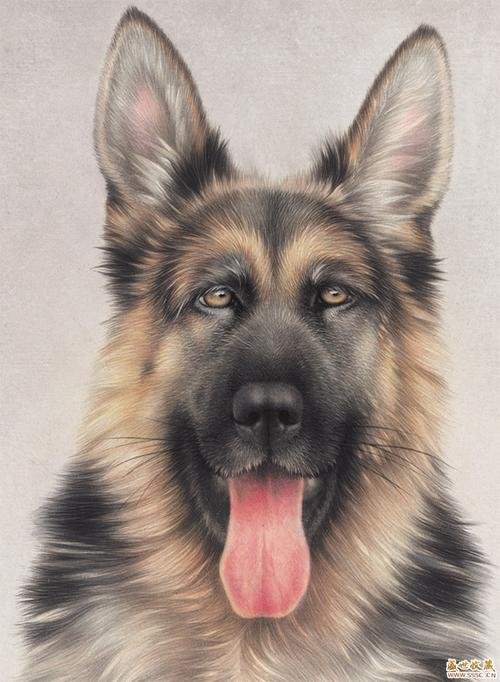dog: (86, 18, 458, 638)
